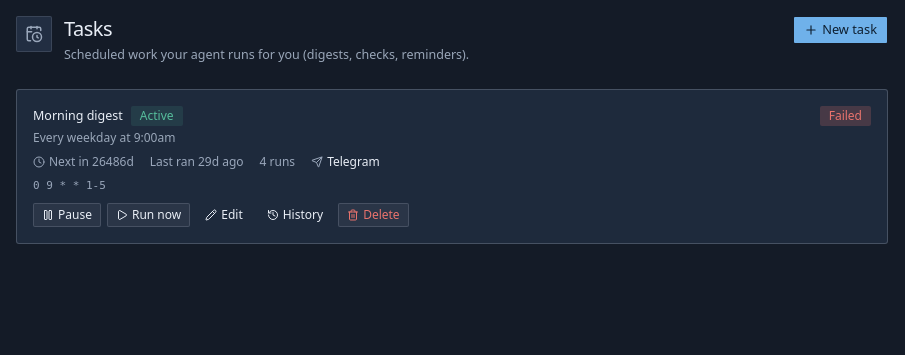
Test: JobsRoute › shows the run history disclosure with the last-error note
Check: the text "Morning digest" is shown, box [33, 107, 123, 125]
Click the button with aria-label "Toggle run history".
click(295, 215)  # box [258, 203, 332, 227]
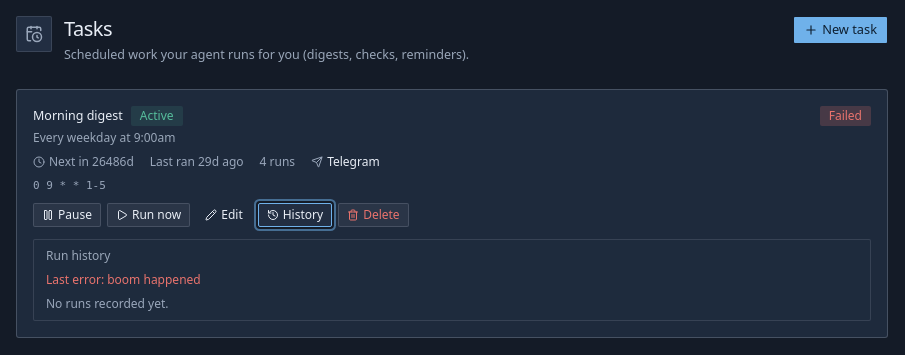
Check: the text "Run history" is shown, box [46, 247, 110, 264]
Check: the text "Last error: boom happened" is shown, box [46, 271, 201, 288]
